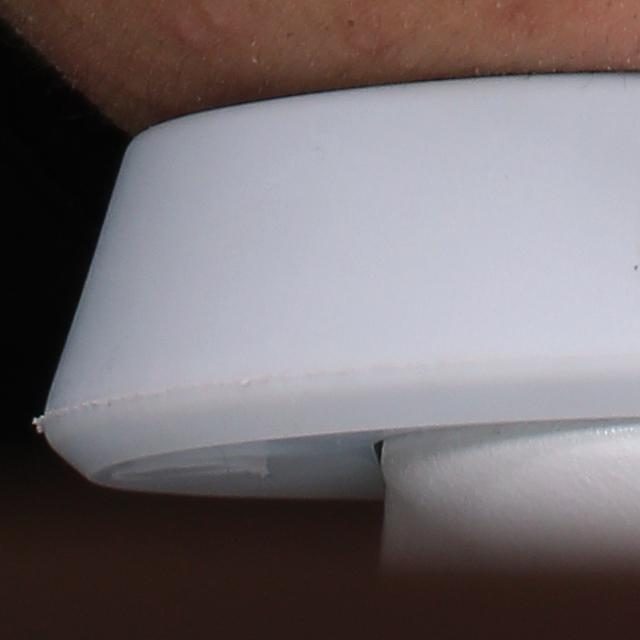comedo: (338, 9, 360, 32)
papule: (172, 21, 208, 48)
